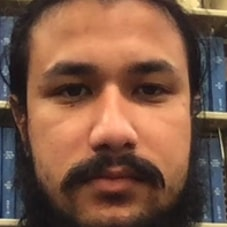awake: (38, 48, 185, 227)
